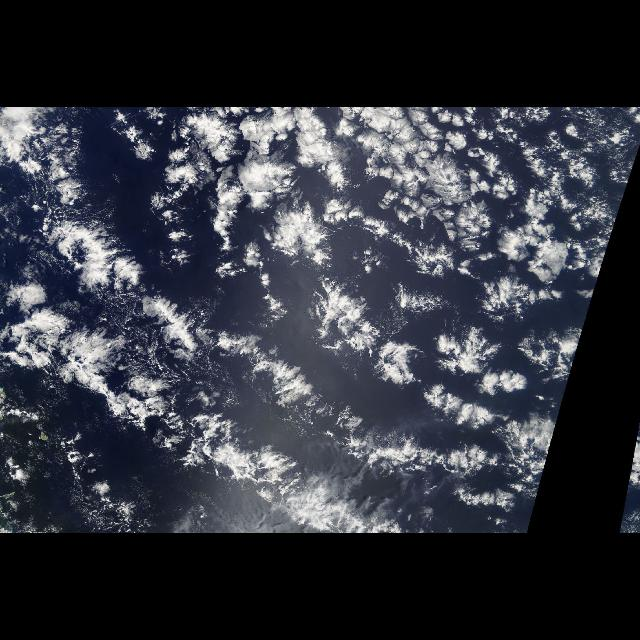Fish: (18, 201, 500, 534)
Flower: (51, 114, 622, 492)
